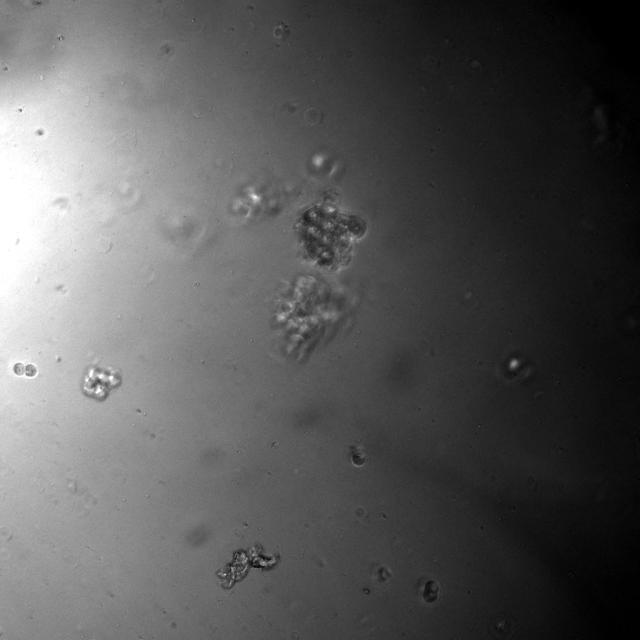organoid: (271, 273, 356, 363), (294, 192, 367, 272), (227, 170, 294, 221), (216, 542, 280, 589), (81, 366, 121, 401), (306, 148, 346, 181), (496, 350, 534, 383), (422, 579, 440, 603), (349, 446, 367, 467), (13, 362, 37, 377), (378, 565, 391, 582)
